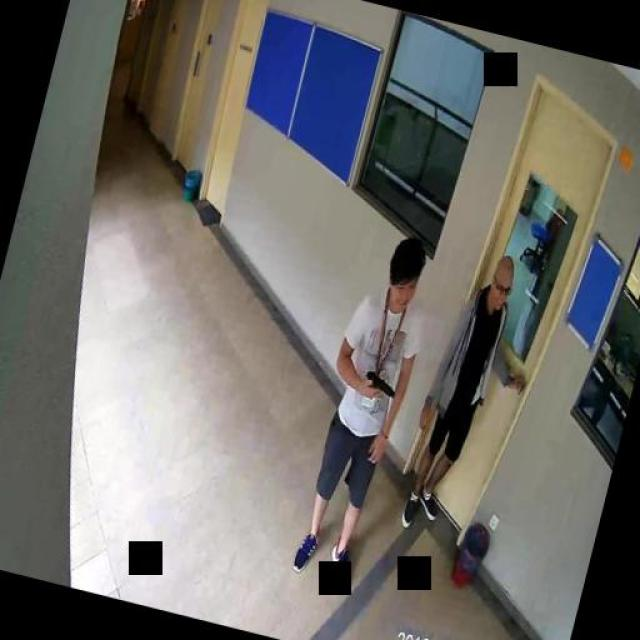gun: (361, 368, 399, 403)
